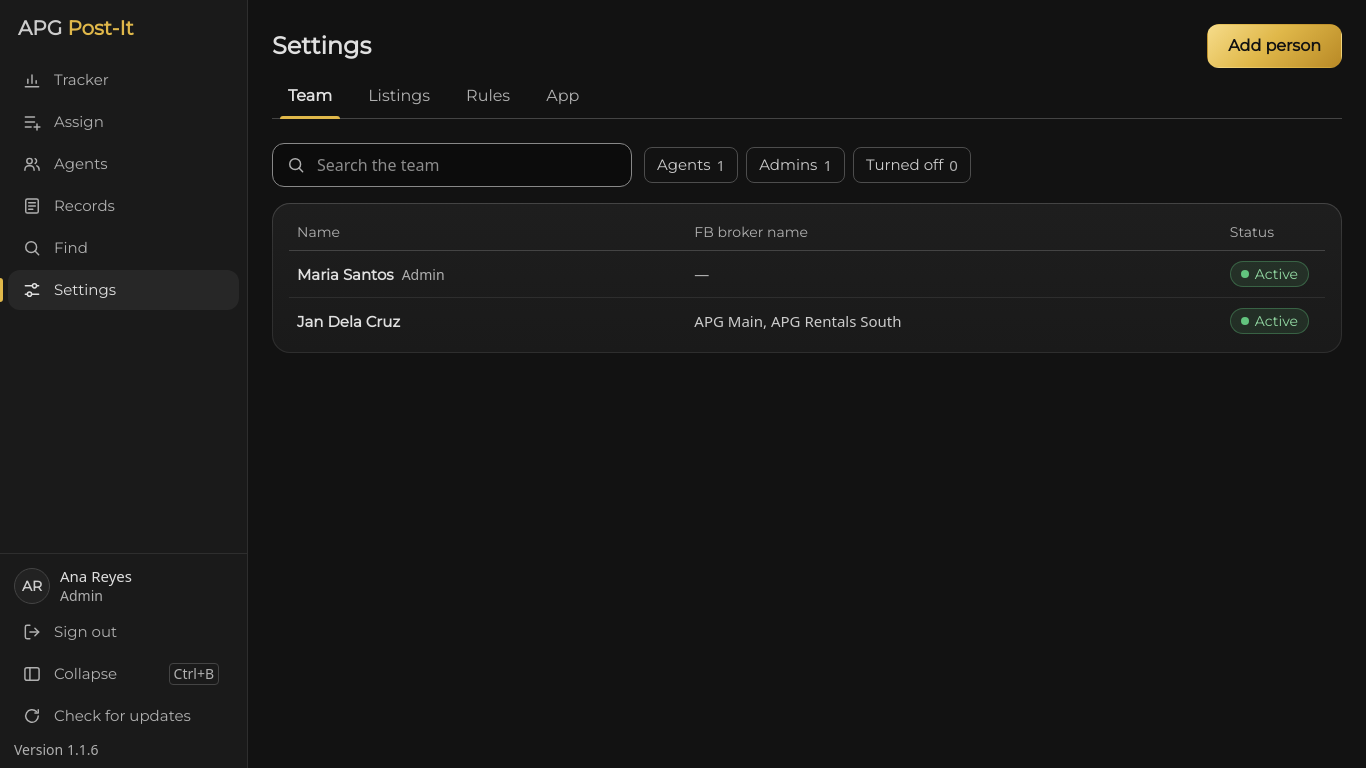
Test: Settings tabs › opens on Team, and the tab lives in the URL
Expected: the panel named "Team" is shown, [272, 143, 1342, 353]
Click the tab "App" at (563, 96), box [530, 74, 595, 118]
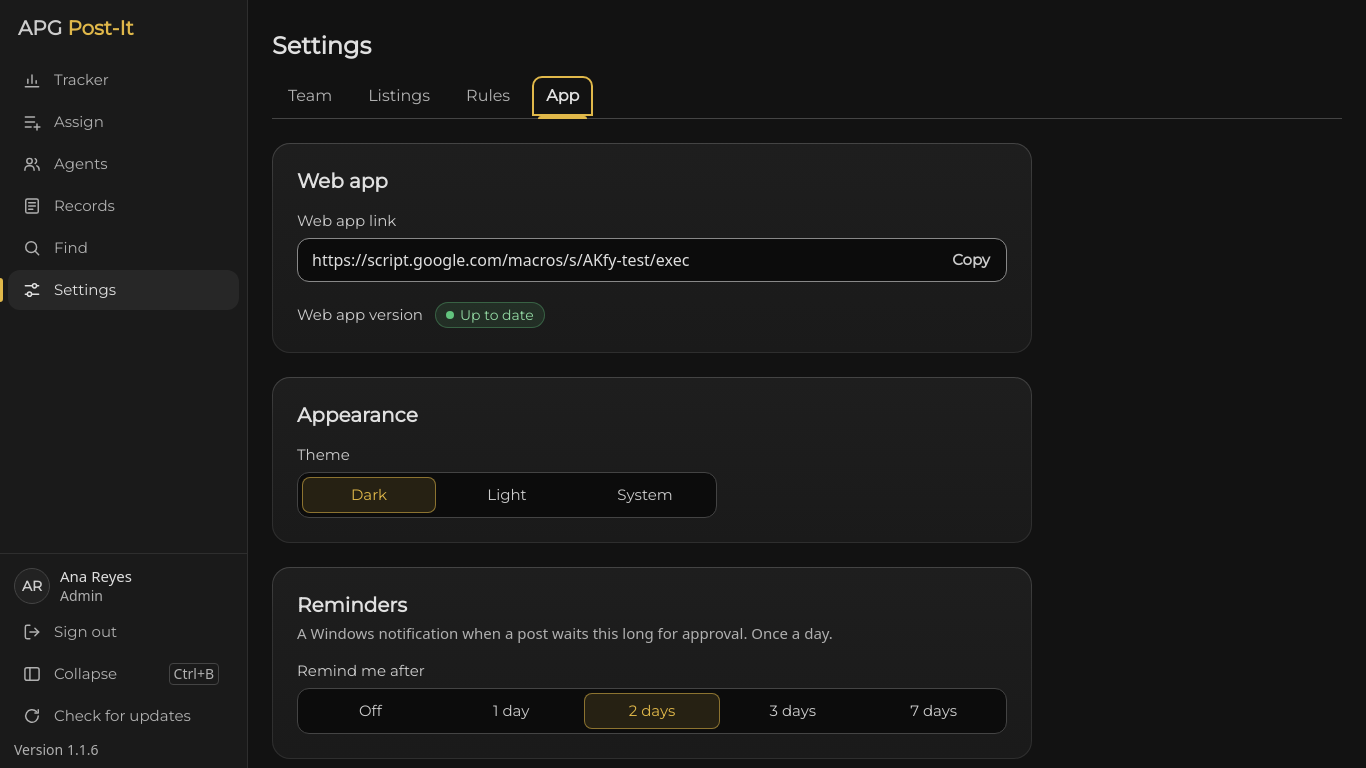
Now the field labelled "Web app link" is shown, box [297, 238, 1007, 282]
